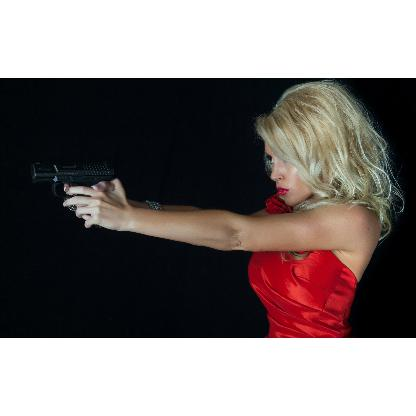gun: (28, 160, 116, 228)
